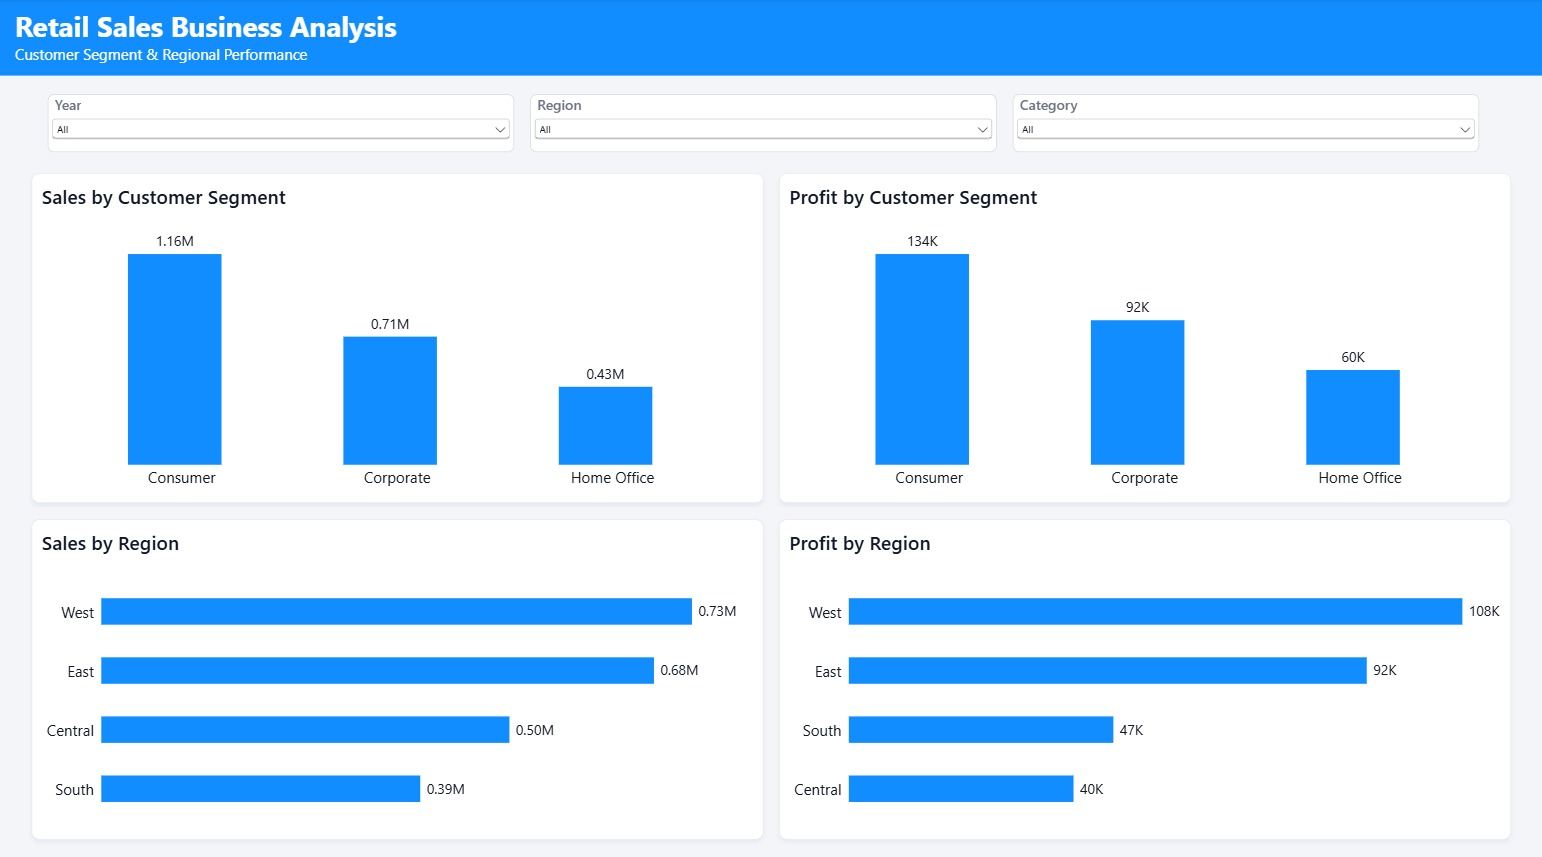

Layout of this report page (visuals, bound fields, positions):
{"tool":"powerbi","page":{"name":"Customer & Region","canvas":[1920,1080],"ordinal":2},"visuals":[{"type":"shape","box":[0,0,1920,92],"z":0},{"type":"shape","box":[0,92,1920,5],"z":1000},{"type":"textbox","box":[0,0,1920,91.7],"z":2000},{"type":"shape","box":[40,112,1840,88],"z":7000},{"type":"slicer","fields":{"Values":["superstore superstore_sales.order_date.Variation.Date Hierarchy.Year"]},"box":[60,120,580,72],"z":8000},{"type":"slicer","fields":{"Values":["superstore superstore_sales.region"]},"box":[660,120,580,72],"z":9000},{"type":"slicer","fields":{"Values":["superstore superstore_sales.category"]},"box":[1260,120,580,72],"z":10000},{"type":"clusteredColumnChart","title":"Sales by Customer Segment","fields":{"Category":["superstore superstore_sales.segment"],"Y":["superstore superstore_sales.Total Sales"]},"box":[40,218,910,410],"z":11000},{"type":"clusteredColumnChart","title":"Profit by Customer Segment","fields":{"Category":["superstore superstore_sales.segment"],"Y":["superstore superstore_sales.Total Profit"]},"box":[970,218,910,410],"z":12000},{"type":"clusteredBarChart","title":"Sales by Region","fields":{"Category":["superstore superstore_sales.region"],"Y":["superstore superstore_sales.Total Sales"]},"box":[40,648,910,398],"z":13000},{"type":"clusteredBarChart","title":"Profit by Region","fields":{"Category":["superstore superstore_sales.region"],"Y":["superstore superstore_sales.Total Profit"]},"box":[970,648,910,398],"z":14000}]}

Visuals, with their boxes in screenshot pixels (x1, y1, x2, y2), scaled from the page's 1920x1080 canvas onto the 1542x857 screenshot:
shape: {"x1": 0, "y1": 0, "x2": 1541, "y2": 73}
shape: {"x1": 0, "y1": 73, "x2": 1541, "y2": 77}
textbox: {"x1": 0, "y1": 0, "x2": 1541, "y2": 73}
shape: {"x1": 32, "y1": 89, "x2": 1510, "y2": 159}
slicer - superstore superstore_sales.order_date.Variation.Date Hierarchy.Year: {"x1": 48, "y1": 95, "x2": 514, "y2": 152}
slicer - superstore superstore_sales.region: {"x1": 530, "y1": 95, "x2": 996, "y2": 152}
slicer - superstore superstore_sales.category: {"x1": 1012, "y1": 95, "x2": 1478, "y2": 152}
"Sales by Customer Segment" clusteredColumnChart: {"x1": 32, "y1": 173, "x2": 763, "y2": 498}
"Profit by Customer Segment" clusteredColumnChart: {"x1": 779, "y1": 173, "x2": 1510, "y2": 498}
"Sales by Region" clusteredBarChart: {"x1": 32, "y1": 514, "x2": 763, "y2": 830}
"Profit by Region" clusteredBarChart: {"x1": 779, "y1": 514, "x2": 1510, "y2": 830}
